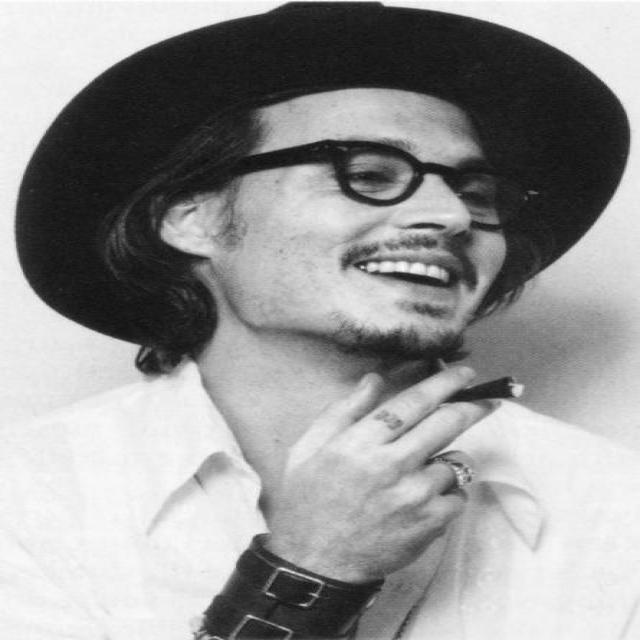glasses: (208, 138, 536, 234)
